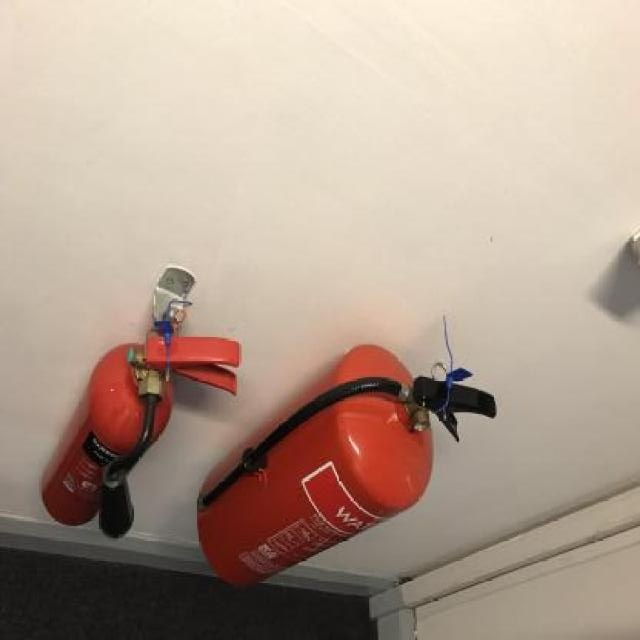fire extinguisher: (197, 343, 497, 588), (40, 317, 242, 540)
